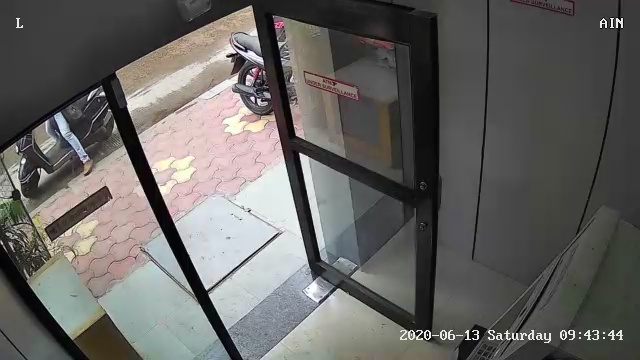open: (96, 6, 449, 357)
